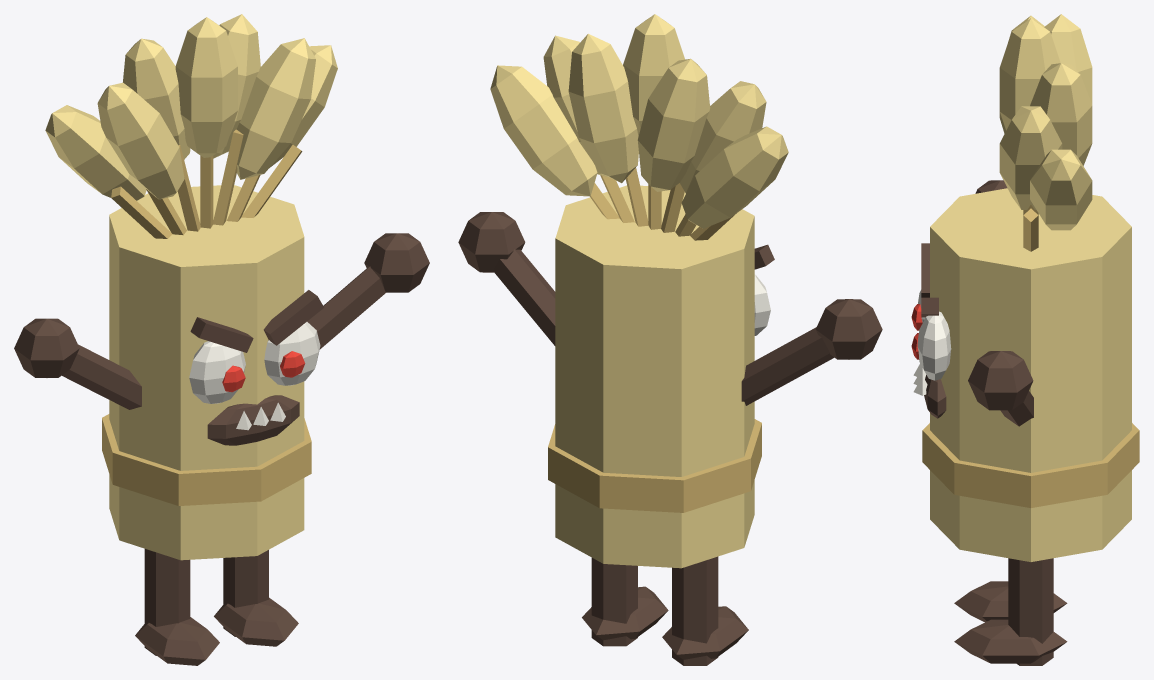
The model's file is MiniWheat.fbx.
The picture shows the model from 3 angles, left to right: view 1: azimuth 30°, elevation 25°; view 2: azimuth 150°, elevation 25°; view 3: azimuth 270°, elevation 25°; orthographic projection. The views are drawn at different scales.
Parts seen in each view (by area): view 1: MiniWheat; view 2: MiniWheat; view 3: MiniWheat.
Part boxes in pixels (<box>): MiniWheat: <box>14,14,429,665</box>; MiniWheat: <box>458,14,882,665</box>; MiniWheat: <box>911,14,1139,665</box>.
Bounding box in the file's own units: 0.9126 × 1.36 × 0.4518.
